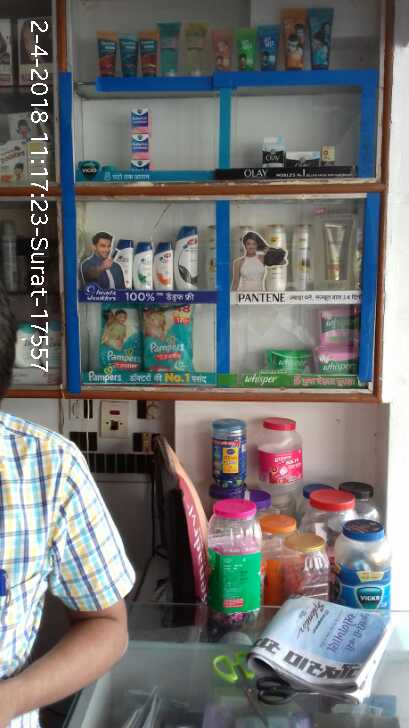vicks: (130, 107, 152, 133), (130, 134, 152, 159), (131, 161, 152, 171)
